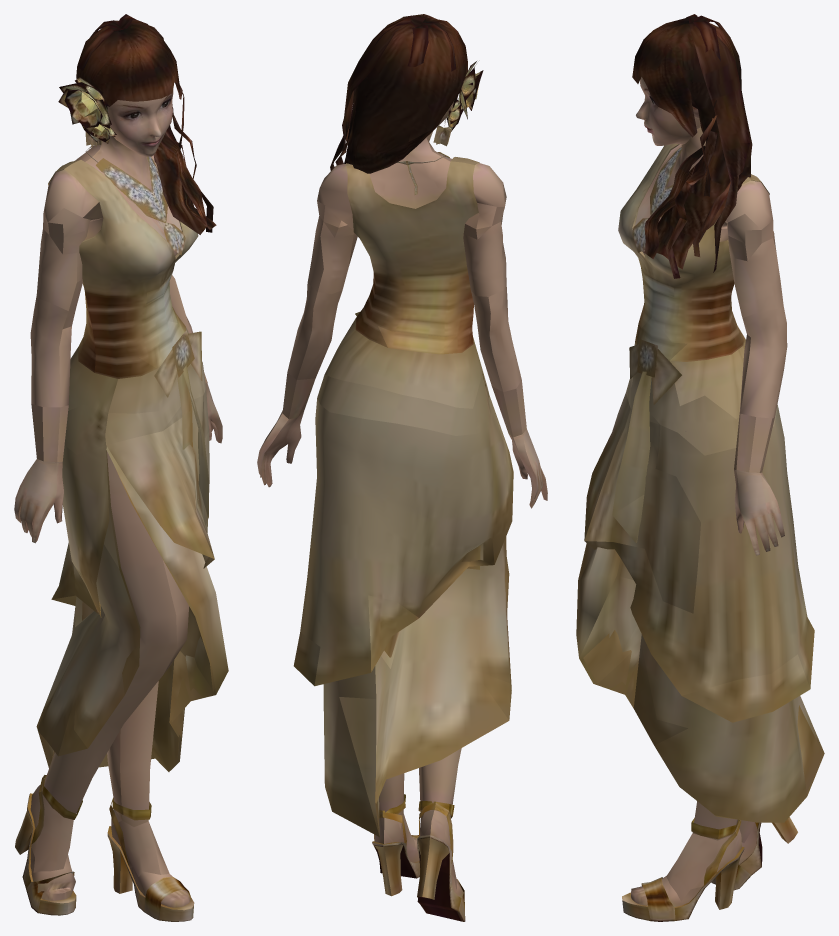
Rendered from girl3.gltf.
The picture shows the model from 3 angles, left to right: view 1: azimuth 30°, elevation 25°; view 2: azimuth 150°, elevation 25°; view 3: azimuth 270°, elevation 25°; orthographic projection.
Visible parts, largest first — view 1: node-0; view 2: node-0; view 3: node-0.
Part boxes in pixels (bbox=[...]): node-0: bbox=[14, 14, 228, 921]; node-0: bbox=[257, 14, 547, 921]; node-0: bbox=[576, 14, 824, 921].
Size of the model in its own units: 0.4925 by 1.72 by 0.4353.
Materials: 4 (4 with a texture image).
